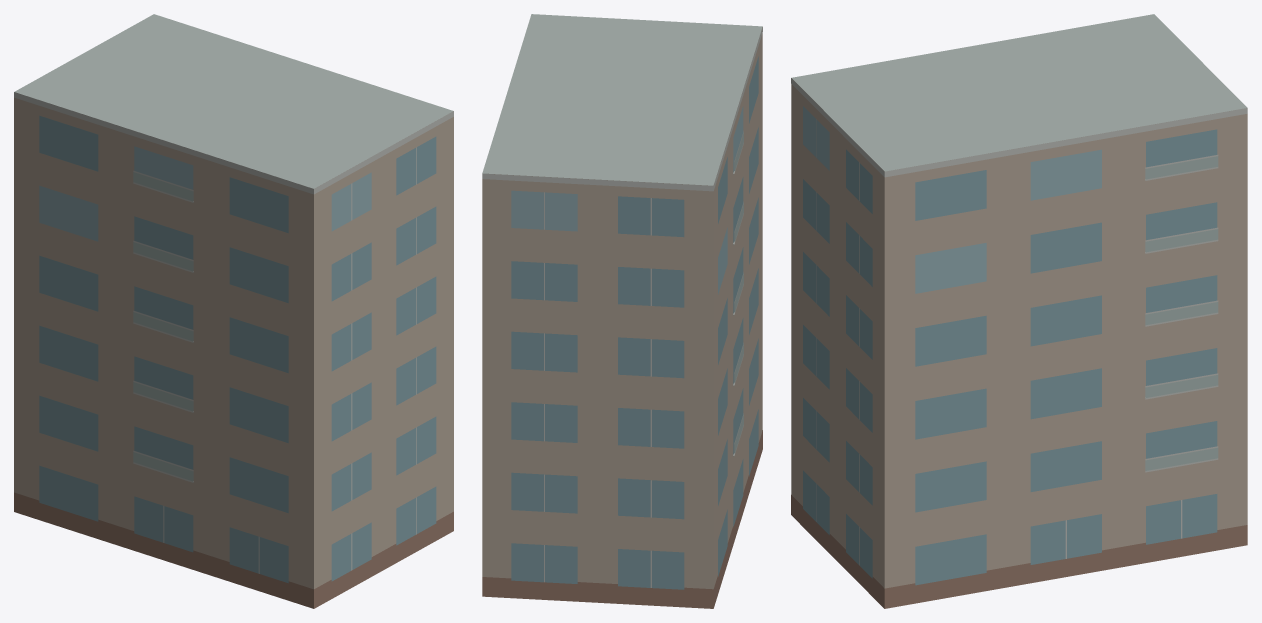
The model's file is survey-upis-32757264.glb.
3 renders of one model, left to right at view 1: azimuth 30°, elevation 25°; view 2: azimuth 150°, elevation 25°; view 3: azimuth 270°, elevation 25°, orthographic. The views are drawn at different scales.
Visible parts, largest first — view 1: survey-upis-32757264.tmp; view 2: survey-upis-32757264.tmp; view 3: survey-upis-32757264.tmp.
Boxes of the visible parts, box(x1,y1,x2,y2) form: survey-upis-32757264.tmp: box(14, 14, 453, 608); survey-upis-32757264.tmp: box(482, 14, 762, 608); survey-upis-32757264.tmp: box(791, 14, 1247, 608).
Size of the model in its own units: 14.16 by 18.3 by 17.32.
